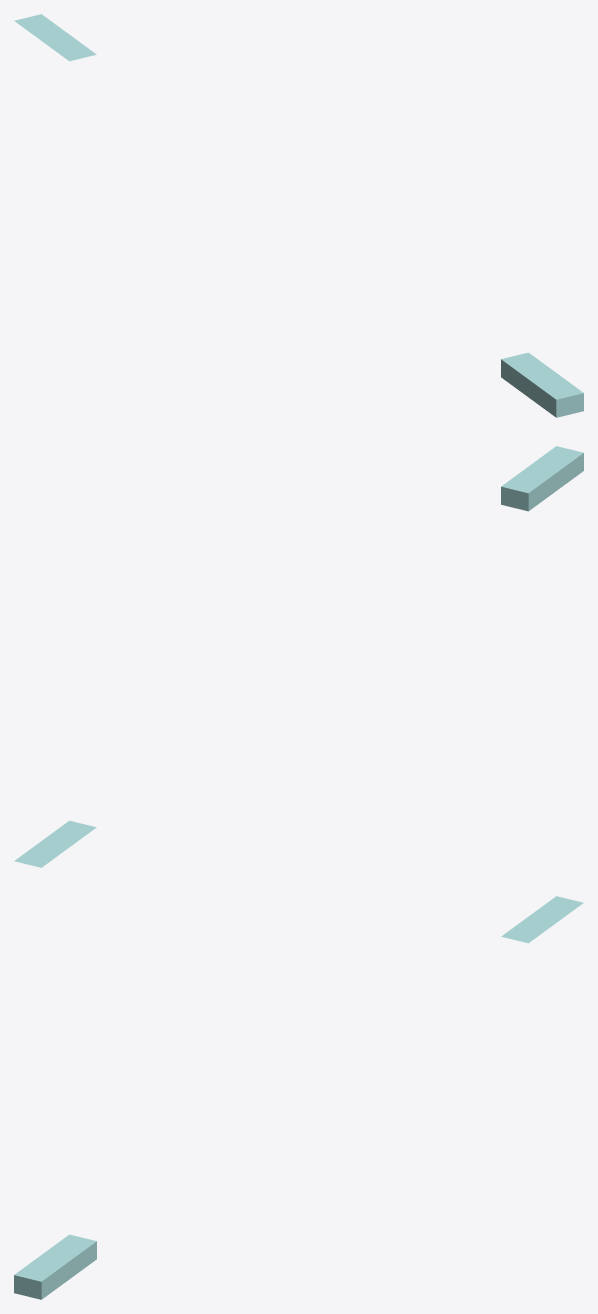
File: Ring_04_Inner_Channel_01.fbx
The picture shows the model from 3 angles, top to bottom: view 1: azimuth 30°, elevation 25°; view 2: azimuth 150°, elevation 25°; view 3: azimuth 330°, elevation 25°; orthographic projection.
Visible parts, largest first — view 1: Ring_04_Inner_Channel_01, Ring_04_Inner_Floor_01; view 2: Ring_04_Inner_Channel_01, Ring_04_Inner_Floor_01; view 3: Ring_04_Inner_Channel_01, Ring_04_Inner_Floor_01.
Boxes of the visible parts, x1,y1,x2,y2 form: Ring_04_Inner_Channel_01: (501,352,583,417); Ring_04_Inner_Floor_01: (14,14,96,61); Ring_04_Inner_Channel_01: (501,446,583,511); Ring_04_Inner_Floor_01: (14,820,96,867); Ring_04_Inner_Channel_01: (14,1234,96,1299); Ring_04_Inner_Floor_01: (501,896,583,943).
Size of the model in its own units: 12.68 by 7.96 by 433.
